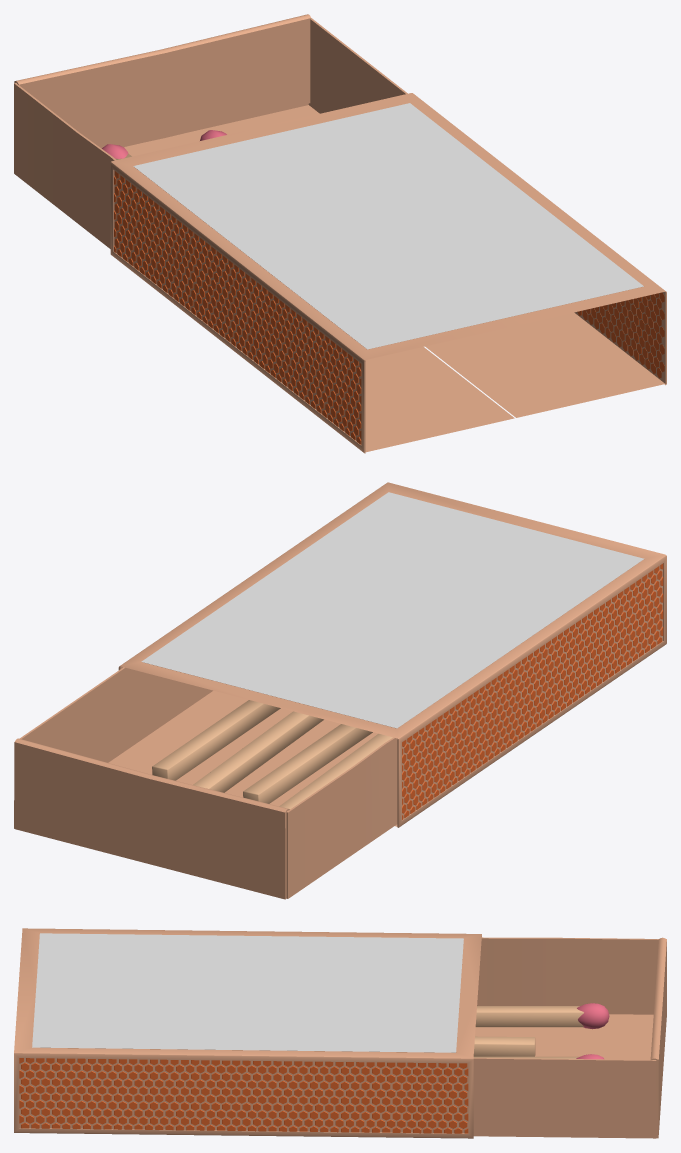
Rendered from matchboxBlendSwap.fbx.
The picture shows the model from 3 angles, top to bottom: view 1: azimuth 30°, elevation 25°; view 2: azimuth 150°, elevation 25°; view 3: azimuth 270°, elevation 25°; orthographic projection. The views are drawn at different scales.
Parts seen in each view (by area): view 1: Cube, Cube.001; view 2: Cube, Cube.001, Cube.007, Cube.003, Cube.006, Cube.020; view 3: Cube, Cube.001, Cube.020, Cube.003, Cube.006.
Part boxes in pixels (x1=…): Cube: x1=110, y1=93, x2=666, y2=453; Cube.001: x1=14, y1=14, x2=407, y2=248; Cube: x1=118, y1=482, x2=666, y2=827; Cube.001: x1=14, y1=667, x2=397, y2=899; Cube.007: x1=152, y1=700, x2=280, y2=780; Cube.003: x1=243, y1=724, x2=372, y2=803; Cube.006: x1=193, y1=711, x2=323, y2=792; Cube.020: x1=279, y1=733, x2=392, y2=809; Cube: x1=14, y1=928, x2=481, y2=1138; Cube.001: x1=473, y1=937, x2=666, y2=1138; Cube.020: x1=475, y1=1003, x2=609, y2=1029; Cube.003: x1=473, y1=1036, x2=535, y2=1056; Cube.006: x1=473, y1=1054, x2=604, y2=1059.
Size of the model in its own units: 16.05 by 4.61 by 33.64.
